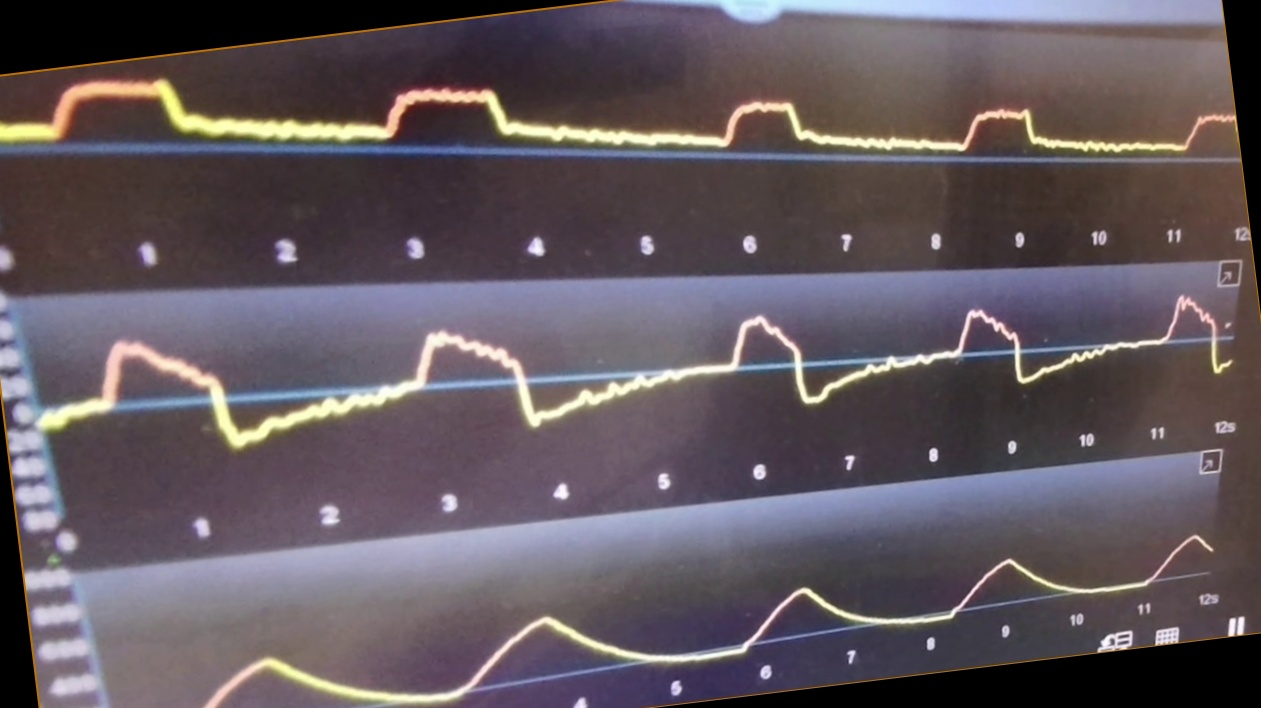Accumulation Flow: (42, 293, 1236, 452)
Volume: (181, 528, 1214, 708)
